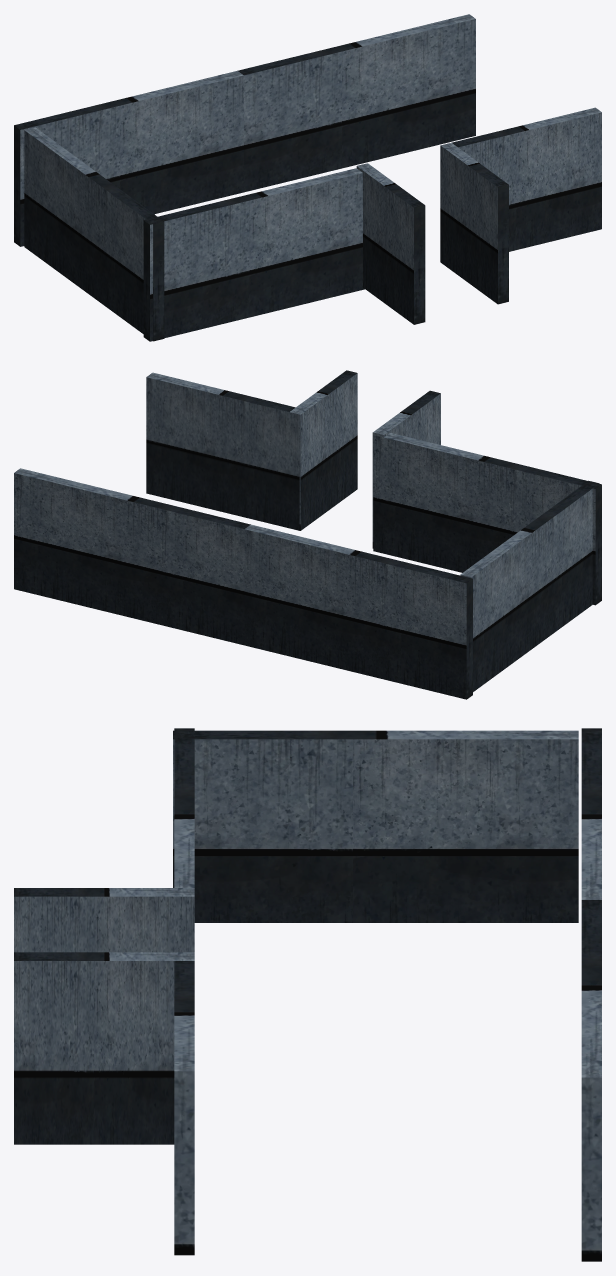
The model's file is parts_services.glb.
3 renders of one model, top to bottom at view 1: azimuth 30°, elevation 25°; view 2: azimuth 150°, elevation 25°; view 3: azimuth 270°, elevation 25°, orthographic. The views are drawn at different scales.
Visible parts, largest first — view 1: mur1.013, mur1.011, mur1.012, mur1.002, mur1.001, mur1.005, mur1.006; view 2: mur1.013, mur1.012, mur1.011, mur1.001, mur1.002, mur1.005, mur1.006; view 3: mur1.002, mur1.005, mur1.006, mur1.013, mur1.001, mur1.012, mur1.011.
Boxes of the visible parts, bbox=[...] form: mur1.013: bbox=[235, 14, 475, 192]; mur1.011: bbox=[143, 168, 364, 341]; mur1.012: bbox=[14, 70, 243, 246]; mur1.002: bbox=[24, 127, 164, 341]; mur1.001: bbox=[451, 107, 601, 251]; mur1.005: bbox=[440, 143, 508, 304]; mur1.006: bbox=[356, 163, 425, 324]; mur1.013: bbox=[14, 468, 253, 646]; mur1.012: bbox=[244, 524, 472, 699]; mur1.011: bbox=[373, 433, 601, 605]; mur1.001: bbox=[146, 372, 299, 530]; mur1.002: bbox=[460, 480, 599, 691]; mur1.005: bbox=[290, 370, 357, 530]; mur1.006: bbox=[372, 390, 440, 548]; mur1.002: bbox=[173, 730, 578, 922]; mur1.005: bbox=[14, 952, 194, 1144]; mur1.006: bbox=[14, 888, 194, 952]; mur1.013: bbox=[581, 900, 601, 1261]; mur1.001: bbox=[174, 961, 194, 1255]; mur1.012: bbox=[581, 728, 601, 899]; mur1.011: bbox=[174, 728, 194, 887].
Size of the model in its own units: 12.22 by 3.06 by 8.7.
Materials: 7 (7 with a texture image).
